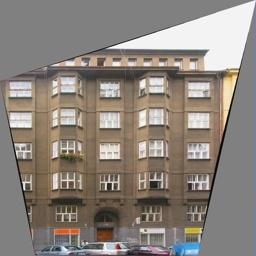building: (38, 36, 223, 239)
